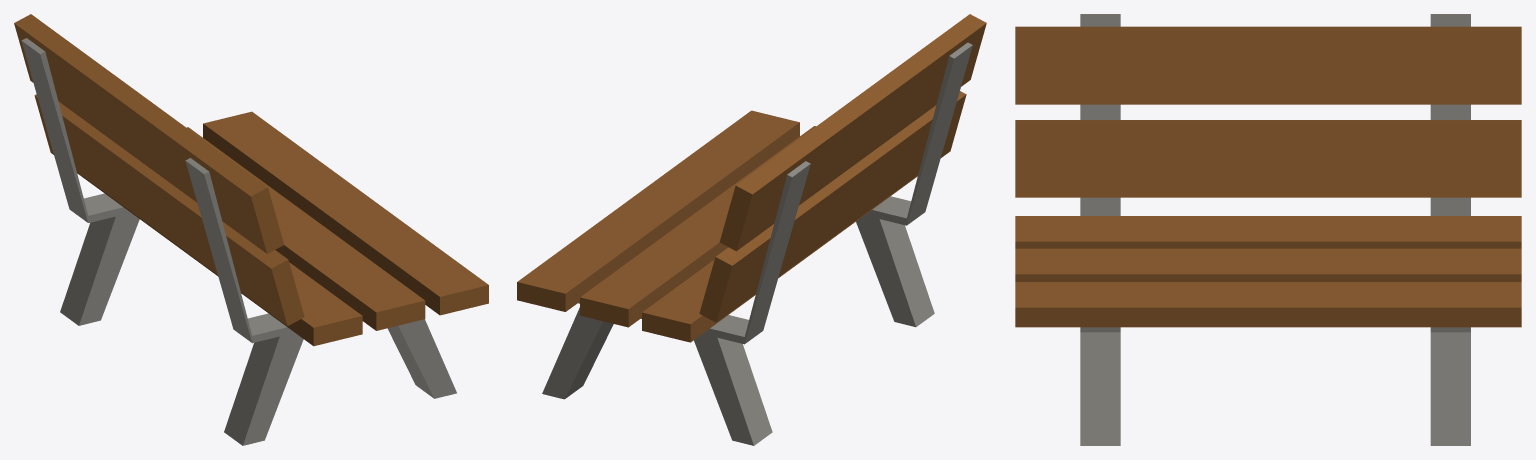
The model's file is Bank.fbx.
The picture shows the model from 3 angles, left to right: view 1: azimuth 30°, elevation 25°; view 2: azimuth 150°, elevation 25°; view 3: azimuth 270°, elevation 25°; orthographic projection. The views are drawn at different scales.
Visible parts, largest first — view 1: Bank; view 2: Bank; view 3: Bank.
Part boxes in pixels (box(x1,y1,x2,y2)): Bank: box(14, 14, 488, 445); Bank: box(517, 14, 986, 445); Bank: box(1015, 14, 1521, 445).
Bounding box in the file's own units: 11.94 × 12.67 × 19.26.
